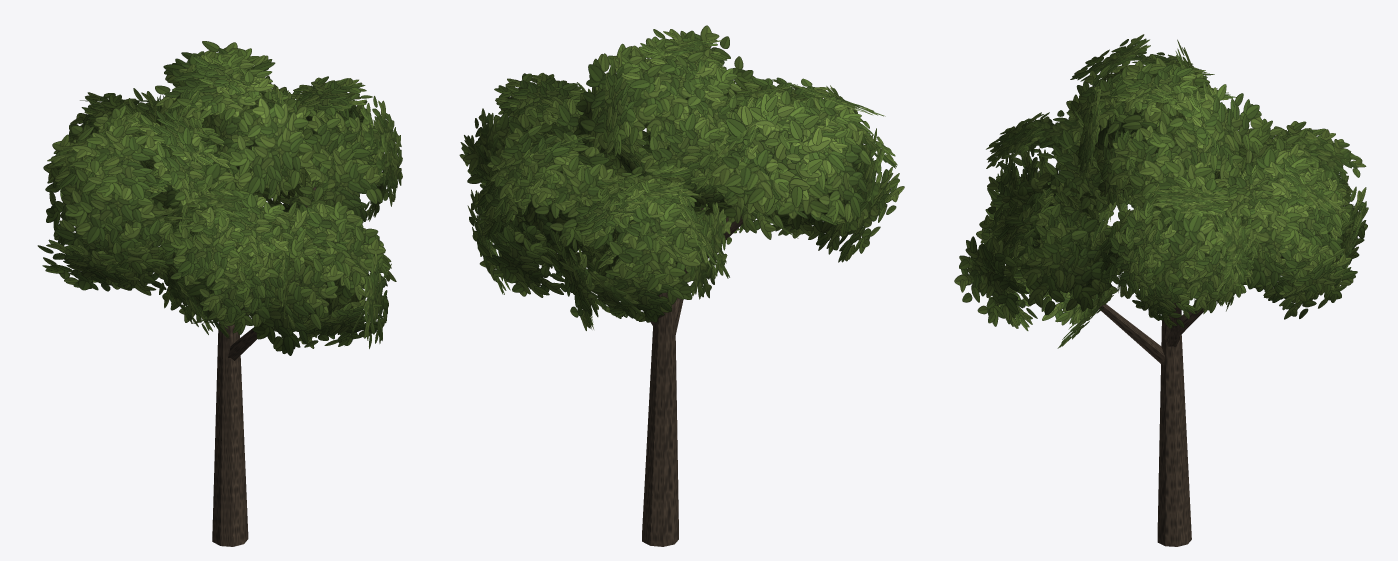
The model's file is quercia_2.glb.
The picture shows the model from 3 angles, left to right: view 1: azimuth 30°, elevation 25°; view 2: azimuth 150°, elevation 25°; view 3: azimuth 270°, elevation 25°; orthographic projection. The views are drawn at different scales.
Parts seen in each view (by area): view 1: quercia_2; view 2: quercia_2; view 3: quercia_2.
Part boxes in pixels (x1,y1,x2,y2): quercia_2: (37,41,402,546); quercia_2: (459,25,904,546); quercia_2: (954,34,1368,546).
Bounding box in the file's own units: 12.96 × 15.43 × 12.62.
2 materials, 2 textured.
